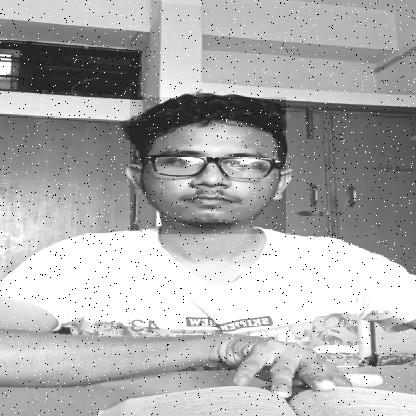Normal: (130, 97, 286, 234)
